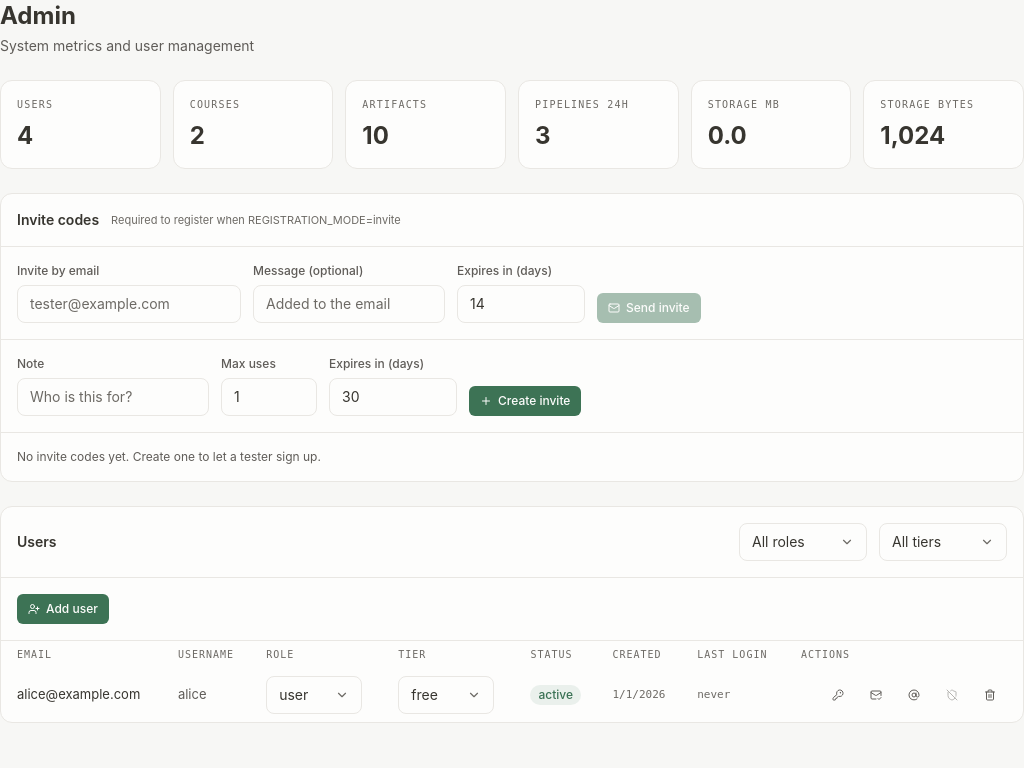
Test: AdminPage destructive confirmations › a role change names the sign-out before it happens
The width and height of the screenshot is (1024, 768).
Step 1. Click the button "user" → (314, 695), box [266,676,362,714]
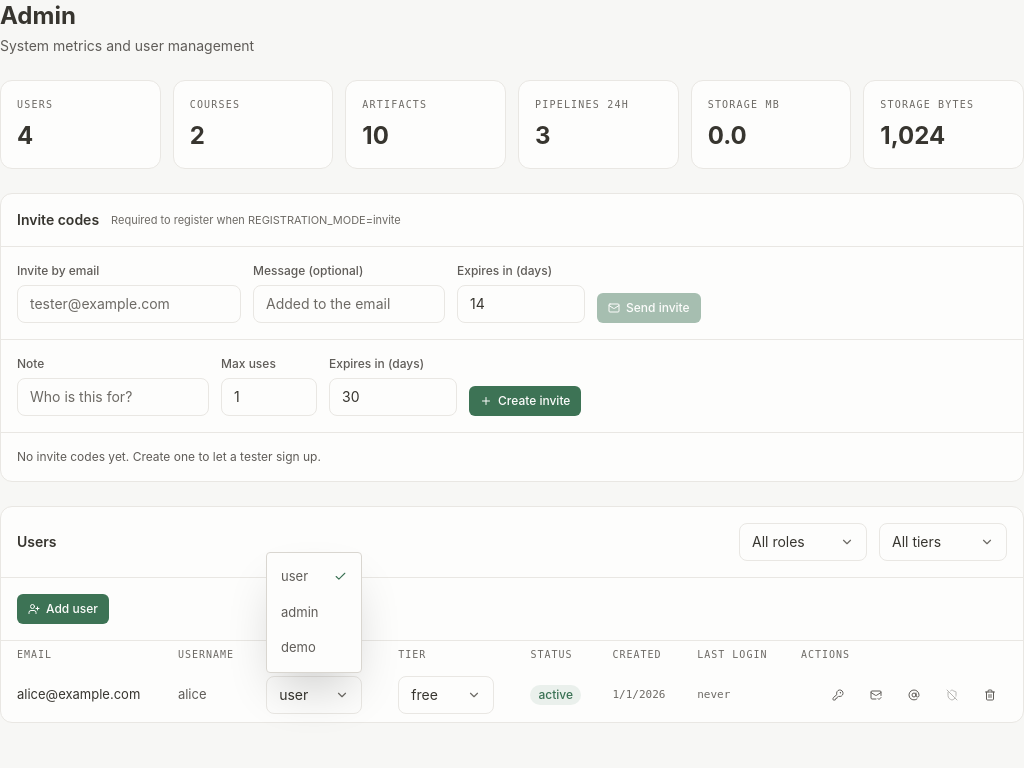
Step 2. Click the menu item "demo" → (298, 647), box [281,639,316,655]
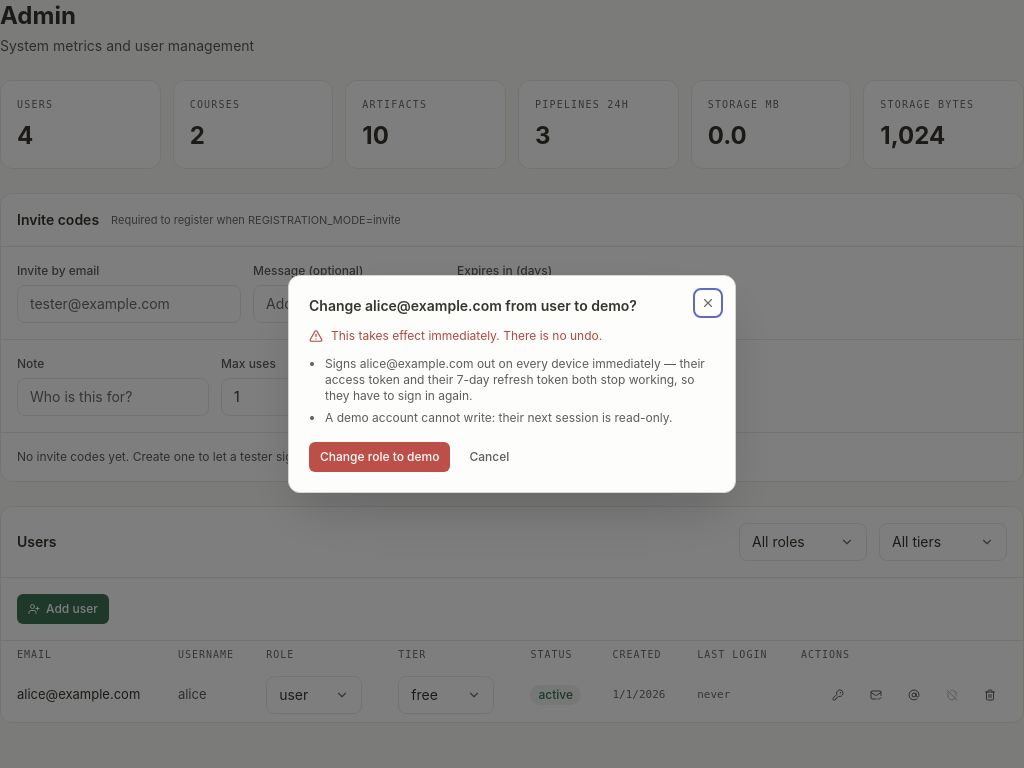
Now the dialog shows "Change alice@example.com from user to demo?", box [309,297,637,314]
Now the dialog shows "signs alice@example.com out on every device", box [325,356,705,403]
Now the dialog shows "read-only", box [325,410,672,425]
